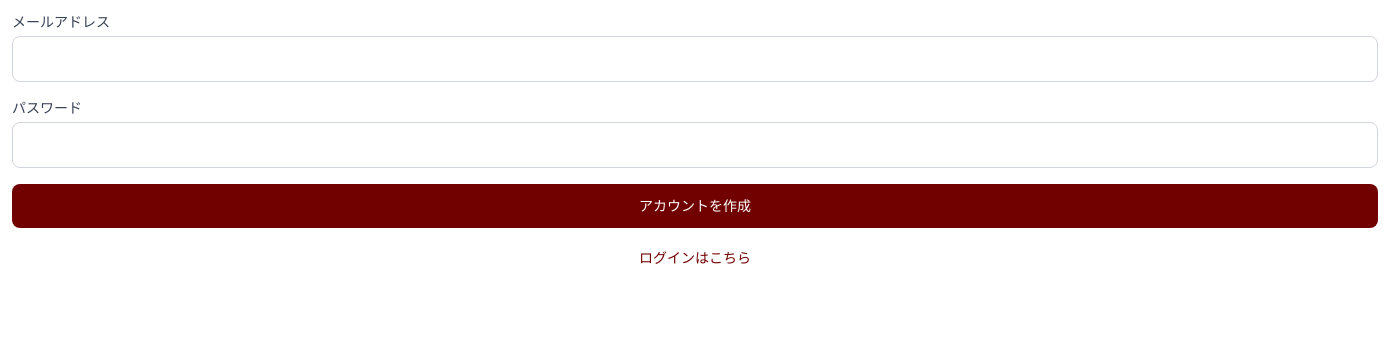
SignUpForm › メール形式不正 → バリデーションエラーが表示される（REQ-304）
Type "invalid-email" into the field labelled "メールアドレス" at (695, 59), box top-left (12, 36), bottom-right (1378, 82)
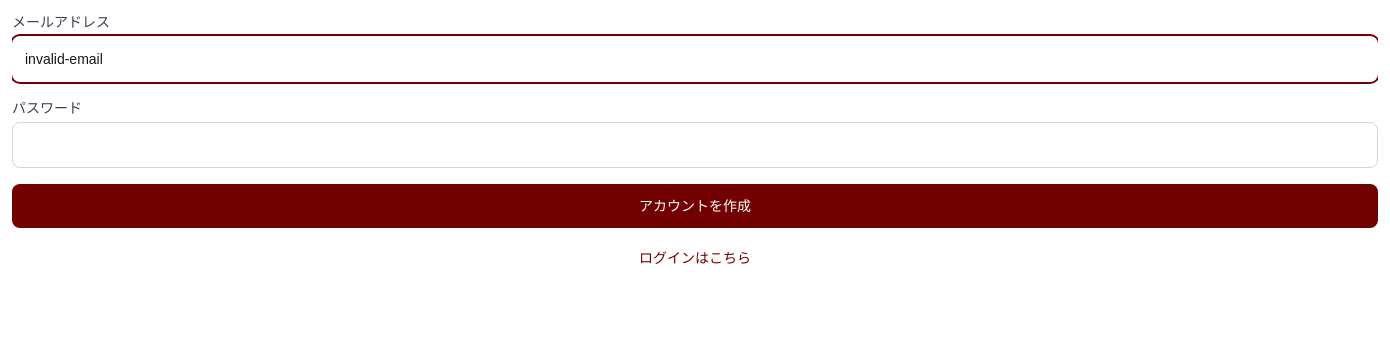
Click the button "アカウントを作成" at (695, 206), box top-left (12, 184), bottom-right (1378, 228)
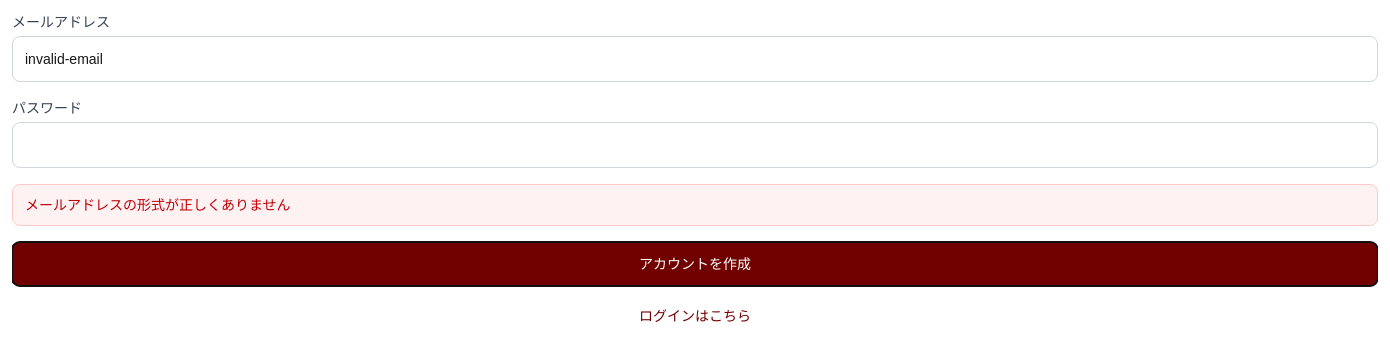
Result: the text "メールアドレスの形式が正しくありません" is shown at top-left (12, 184), bottom-right (1378, 226)
